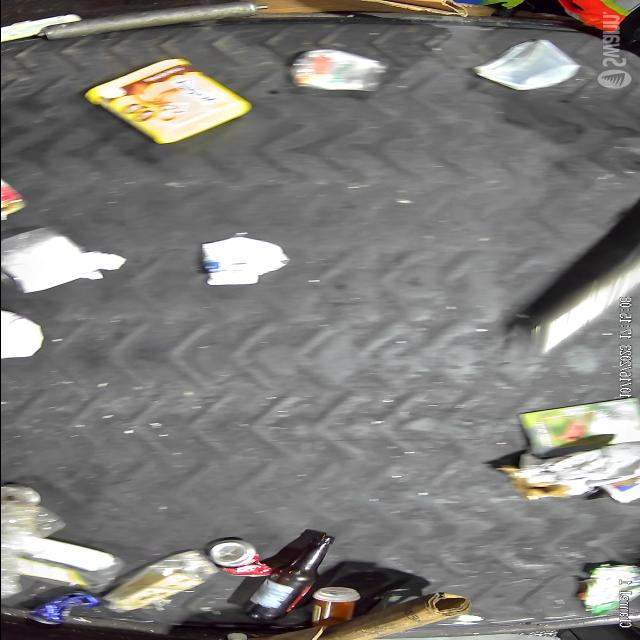can: (282, 48, 388, 90), (578, 558, 636, 614), (209, 534, 271, 584), (30, 590, 106, 628)
